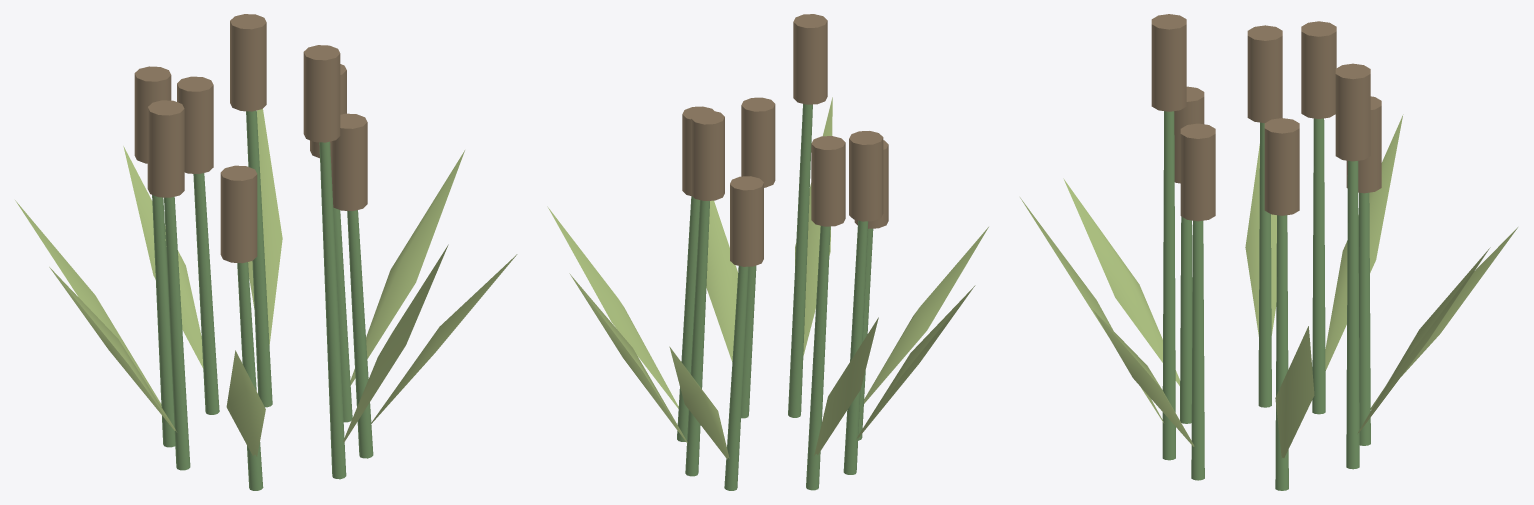
File: plant-reeds-mossy.glb
The picture shows the model from 3 angles, left to right: view 1: azimuth 30°, elevation 25°; view 2: azimuth 150°, elevation 25°; view 3: azimuth 270°, elevation 25°; orthographic projection. The views are drawn at different scales.
Visible parts, largest first — view 1: plant-reeds-kit-mossy-green, plant-reeds-kit-mossy-wood, plant-reeds-kit-mossy-leaf; view 2: plant-reeds-kit-mossy-wood, plant-reeds-kit-mossy-green, plant-reeds-kit-mossy-leaf; view 3: plant-reeds-kit-mossy-green, plant-reeds-kit-mossy-wood, plant-reeds-kit-mossy-leaf.
Part boxes in pixels (left/top/right/bottom): plant-reeds-kit-mossy-green: left=152, top=110, right=373, bottom=490; plant-reeds-kit-mossy-wood: left=134, top=14, right=367, bottom=263; plant-reeds-kit-mossy-leaf: left=15, top=108, right=517, bottom=456; plant-reeds-kit-mossy-wood: left=682, top=14, right=888, bottom=266; plant-reeds-kit-mossy-green: left=677, top=104, right=873, bottom=490; plant-reeds-kit-mossy-leaf: left=547, top=97, right=988, bottom=459; plant-reeds-kit-mossy-green: left=1162, top=111, right=1370, bottom=490; plant-reeds-kit-mossy-wood: left=1151, top=14, right=1381, bottom=221; plant-reeds-kit-mossy-leaf: left=1020, top=114, right=1517, bottom=458.
Bounding box in the file's own units: 1.79 × 1.66 × 1.77.
